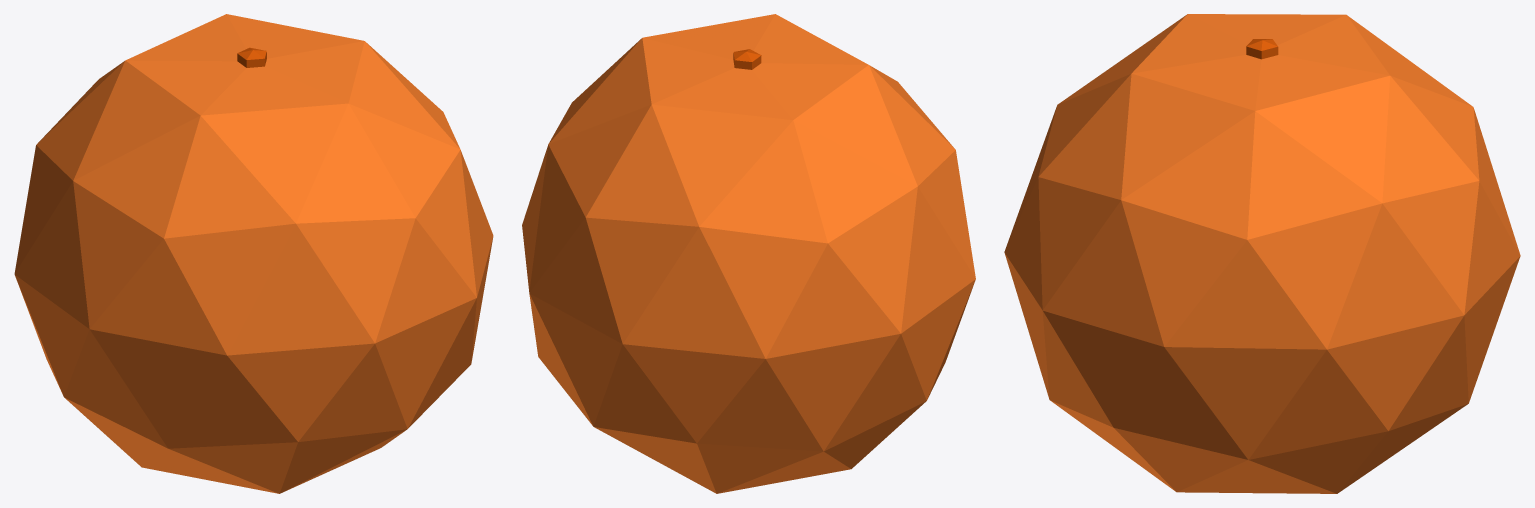
File: orange.glb
3 renders of one model, left to right at view 1: azimuth 30°, elevation 25°; view 2: azimuth 150°, elevation 25°; view 3: azimuth 270°, elevation 25°, orthographic. The views are drawn at different scales.
Visible parts, largest first — view 1: Icosphere; view 2: Icosphere; view 3: Icosphere.
Boxes of the visible parts, x1,y1,x2,y2 form: Icosphere: [14, 14, 493, 493]; Icosphere: [522, 14, 975, 493]; Icosphere: [1004, 14, 1520, 493].
Size of the model in its own units: 1.87 by 1.93 by 2.03.
Materials: 1 (1 with a texture image).
